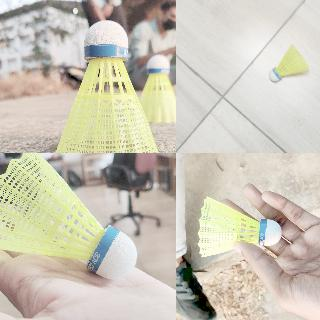shuttlecock: (0, 153, 137, 281), (53, 21, 160, 152), (198, 195, 280, 257), (139, 51, 175, 125), (269, 44, 307, 84)
